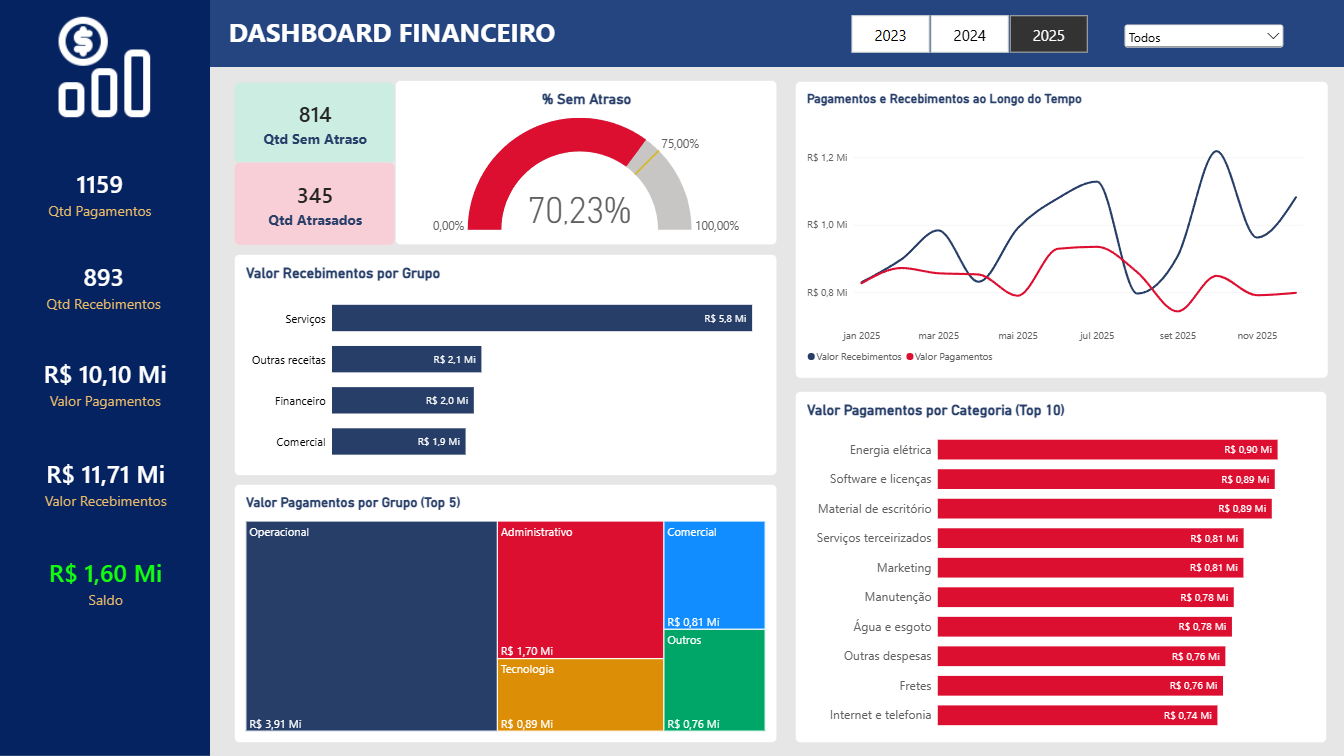

The dashboard page shown, as its layout file describes it:
{"tool":"powerbi","page":{"name":"Visão Geral","canvas":[1920,1080],"ordinal":0},"visuals":[{"type":"shape","box":[0,0,300.4,1079.8],"z":0},{"type":"cardVisual","fields":{"Data":["medidas.Qtd Pagamentos"]},"box":[27.8,213,231.6,128.4],"z":1000},{"type":"image","box":[38.8,16.2,221,160.1],"z":2000},{"type":"cardVisual","fields":{"Data":["medidas.Qtd Recebimentos"]},"box":[26.2,341.2,245,136.2],"z":3000},{"type":"cardVisual","fields":{"Data":["medidas.Valor Pagamentos"]},"box":[40,478.3,221.4,140.4],"z":4000},{"type":"cardVisual","fields":{"Data":["medidas.Valor Recebimentos"]},"box":[28.3,620,245,143.8],"z":5000},{"type":"cardVisual","fields":{"Data":["medidas.Saldo"]},"box":[28.3,763.3,245,140],"z":6000},{"type":"shape","box":[300,0,1620,95.7],"z":7000},{"type":"textbox","box":[284.3,20,551.4,57.1],"z":8000},{"type":"slicer","fields":{"Values":["calendario.Ano"]},"box":[1195.7,20,377.1,57.1],"z":9000},{"type":"treemap","title":"Valor Pagamentos por Grupo (Top 5)","fields":{"Group":["categorias.grupo_categoria"],"Values":["medidas.Valor Pagamentos"]},"box":[334.3,691.4,775.7,370],"z":10000},{"type":"barChart","title":"Valor Pagamentos por Categoria (Top 10)","fields":{"Category":["categorias.nome_categoria"],"Y":["medidas.Valor Pagamentos"]},"box":[1135.7,558.6,760,502.9],"z":11000},{"type":"slicer","fields":{"Values":["calendario.Mes"]},"box":[1601.4,30,237.1,47.1],"z":12000},{"type":"gauge","title":"%  Sem Atraso","fields":{"TargetValue":["medidas.Meta Pagamentos no Prazo"],"Y":["medidas.% Pagamentos no Prazo"]},"box":[564.2,113.7,545.7,235.9],"z":13000},{"type":"areaChart","title":"Pagamentos e Recebimentos ao Longo do Tempo","fields":{"Category":["calendario.data.Variação.Hierarquia de datas.Ano","calendario.data.Variação.Hierarquia de datas.Trimestre","calendario.data.Variação.Hierarquia de datas.Mês","calendario.data.Variação.Hierarquia de datas.Dia"],"Y":["medidas.Valor Recebimentos","pagamentos.Valor Pagamentos"]},"box":[1135,115,761.7,425],"z":13000},{"type":"cardVisual","title":"Qtd Sem Atraso","fields":{"Data":["pagamentos.Qtd Pagamentos Sem Atraso"]},"box":[334,116.5,230.2,118],"z":14000},{"type":"barChart","title":"Valor Recebimentos por Grupo","fields":{"Category":["categorias.grupo_categoria"],"Y":["medidas.Valor Recebimentos"]},"box":[334.3,362.9,775.7,317.1],"z":14001},{"type":"cardVisual","fields":{"Data":["pagamentos.Qtd Pagamentos Com Atraso"]},"box":[334,231.7,230.2,119.4],"z":15000}]}

Visuals, with their boxes in screenshot pixels (x1, y1, x2, y2), scaled from the page's 1920x1080 canvas onto the 1344x756 screenshot:
shape: (left=0, top=0, right=210, bottom=755)
cardVisual - medidas.Qtd Pagamentos: (left=19, top=149, right=182, bottom=239)
image: (left=27, top=11, right=182, bottom=123)
cardVisual - medidas.Qtd Recebimentos: (left=18, top=239, right=190, bottom=334)
cardVisual - medidas.Valor Pagamentos: (left=28, top=335, right=183, bottom=433)
cardVisual - medidas.Valor Recebimentos: (left=20, top=434, right=191, bottom=535)
cardVisual - medidas.Saldo: (left=20, top=534, right=191, bottom=632)
shape: (left=210, top=0, right=1343, bottom=67)
textbox: (left=199, top=14, right=585, bottom=54)
slicer - calendario.Ano: (left=837, top=14, right=1101, bottom=54)
"Valor Pagamentos por Grupo (Top 5)" treemap: (left=234, top=484, right=777, bottom=743)
"Valor Pagamentos por Categoria (Top 10)" barChart: (left=795, top=391, right=1327, bottom=743)
slicer - calendario.Mes: (left=1121, top=21, right=1287, bottom=54)
"%  Sem Atraso" gauge: (left=395, top=80, right=777, bottom=245)
"Pagamentos e Recebimentos ao Longo do Tempo" areaChart: (left=794, top=80, right=1328, bottom=378)
"Qtd Sem Atraso" cardVisual: (left=234, top=82, right=395, bottom=164)
"Valor Recebimentos por Grupo" barChart: (left=234, top=254, right=777, bottom=476)
cardVisual - pagamentos.Qtd Pagamentos Com Atraso: (left=234, top=162, right=395, bottom=246)
